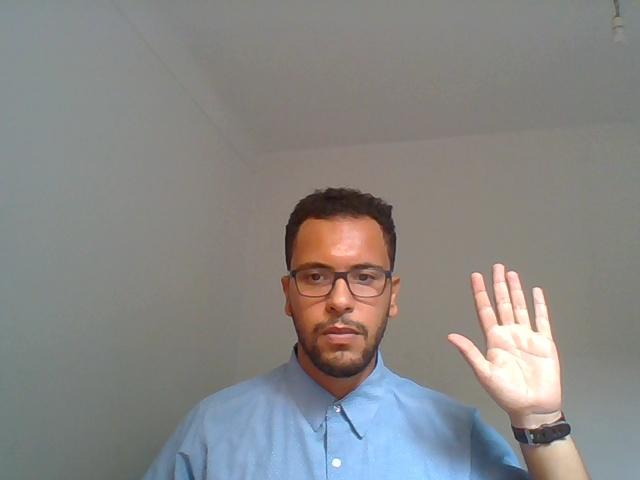hello: (425, 242, 594, 480)
